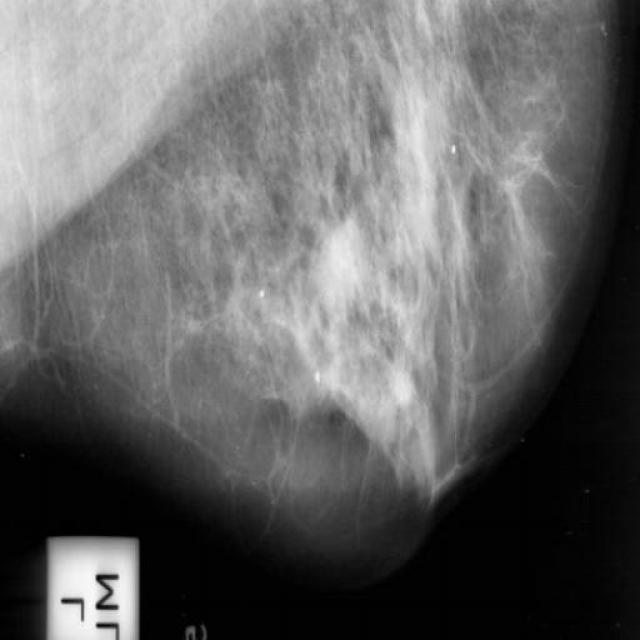cancer: (429, 142, 485, 292)
